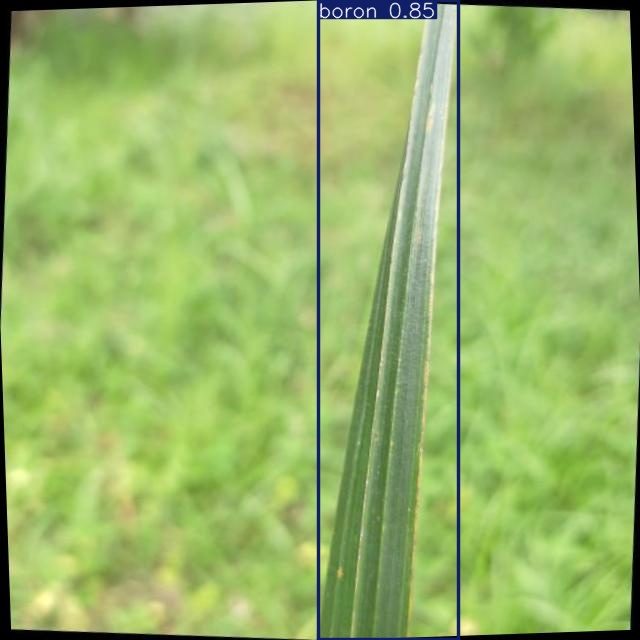nitrogen: (318, 0, 459, 639)
